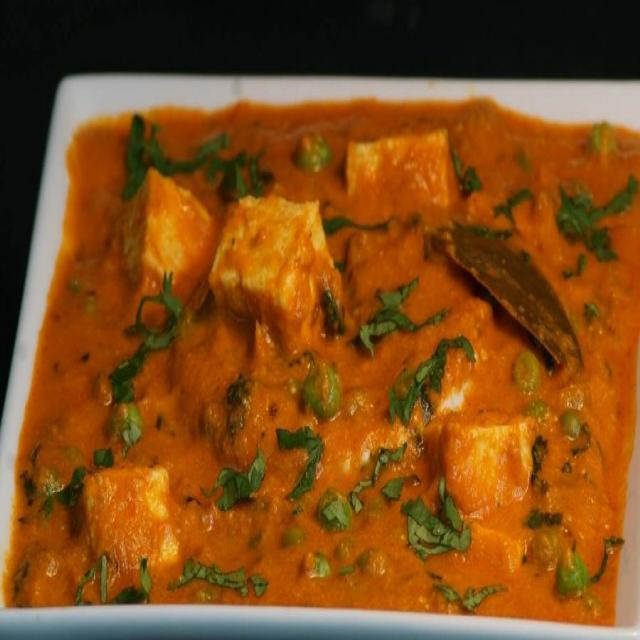ShahiPaneer: (14, 93, 640, 640)
